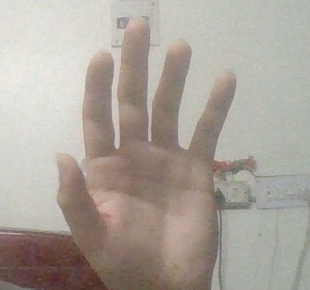move: (53, 14, 238, 280)
